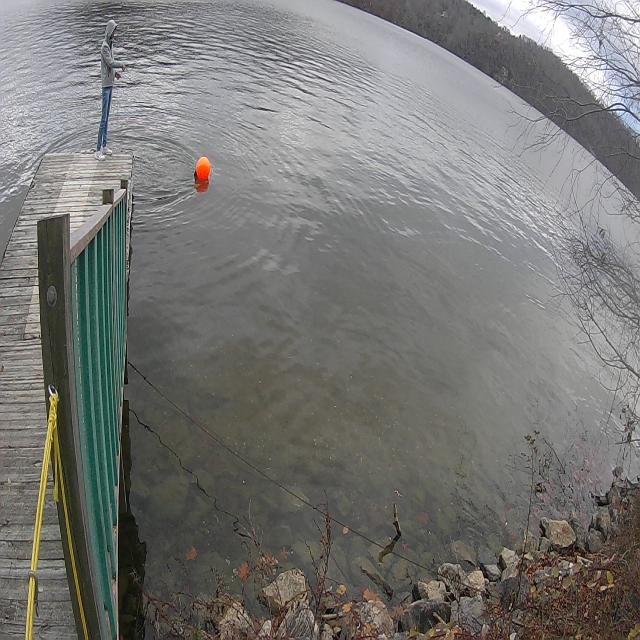Buoy: (190, 142, 216, 193)
